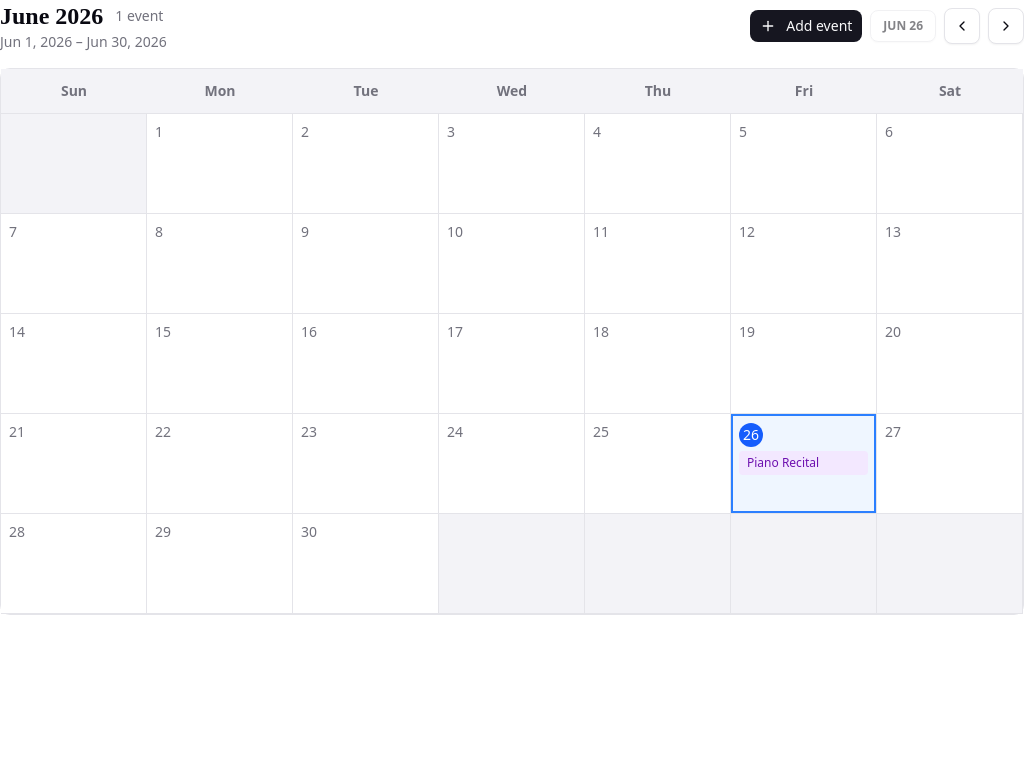
Test: SimpleCalendar › Event click opens detail modal › opens EventDetailModal with the clicked event's details
Click the button "Piano Recital" at (804, 463), box x1=739 y1=451 x2=868 y2=475
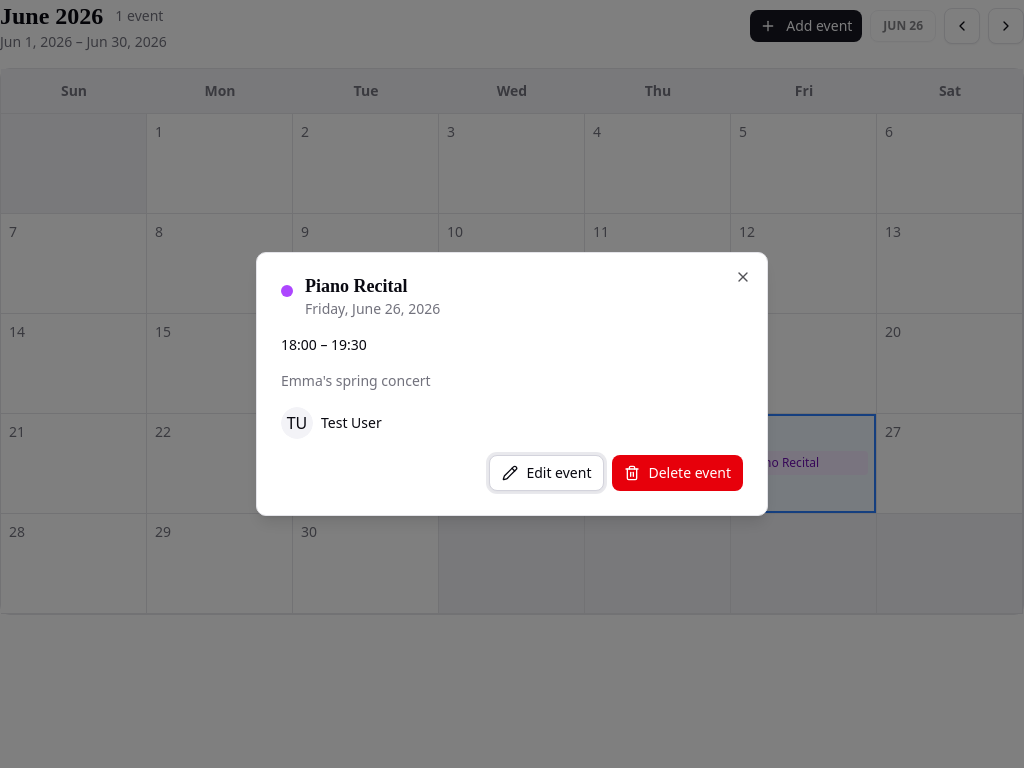
Check: the heading "Piano Recital" is shown, box x1=305 y1=276 x2=408 y2=296
Check: the text "Emma's spring concert" is shown, box x1=281 y1=371 x2=431 y2=390
